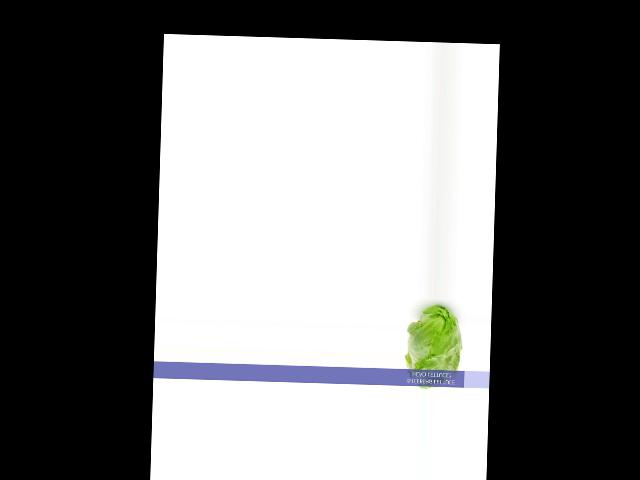lettuce: (404, 300, 461, 390)
